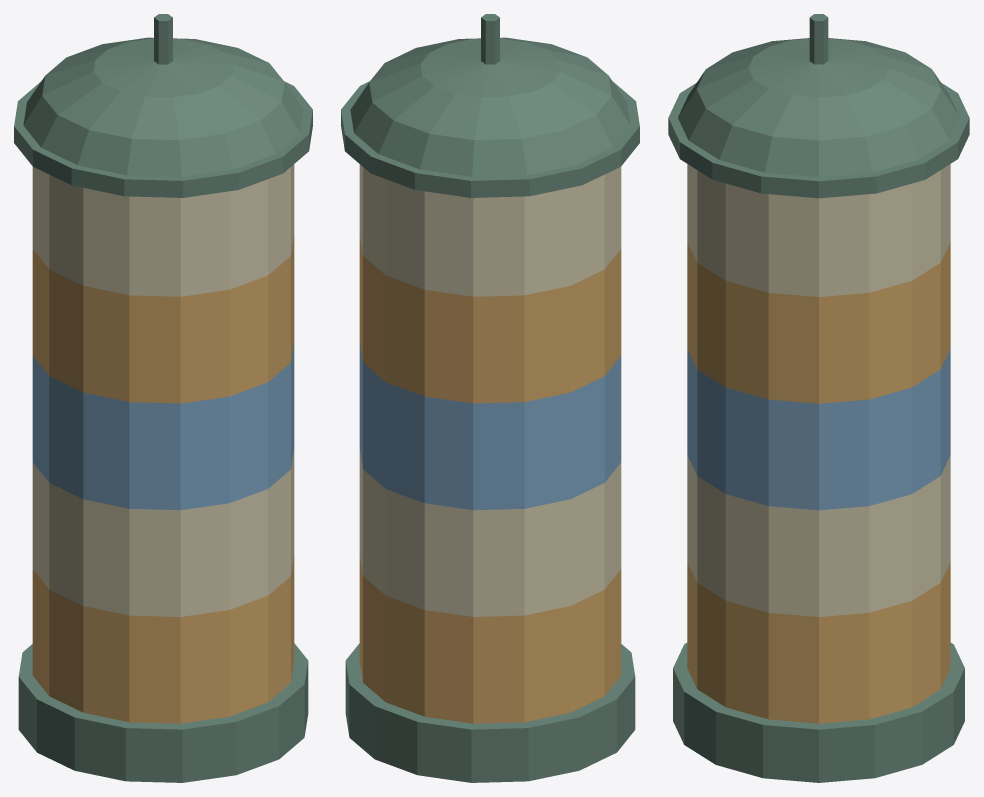
Rendered from ad-column.glb.
3 views of the same model, side by side, from view 1: azimuth 30°, elevation 25°; view 2: azimuth 150°, elevation 25°; view 3: azimuth 270°, elevation 25° (orthographic).
Visible parts, largest first — view 1: ad-column; view 2: ad-column; view 3: ad-column.
Part boxes in pixels (x1,y1,x2,y2): ad-column: [14, 14, 312, 782]; ad-column: [341, 14, 639, 782]; ad-column: [668, 14, 969, 782].
Bounding box in the file's own units: 1.28 × 3.3 × 1.28.
